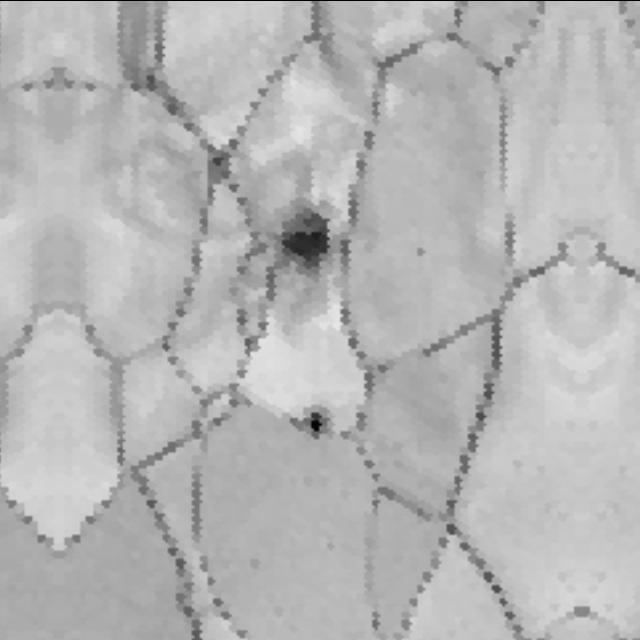good_void: (251, 172, 353, 298), (286, 395, 340, 446), (406, 236, 436, 266)
